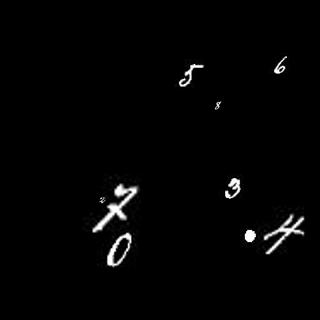dot: (242, 227, 258, 246)
eight: (213, 98, 223, 111)
five: (177, 60, 203, 89)
four: (262, 214, 307, 256)
seven: (95, 185, 143, 231)
six: (273, 53, 289, 75)
three: (224, 175, 242, 202)
two: (95, 191, 106, 204)
zero: (99, 233, 140, 269)
